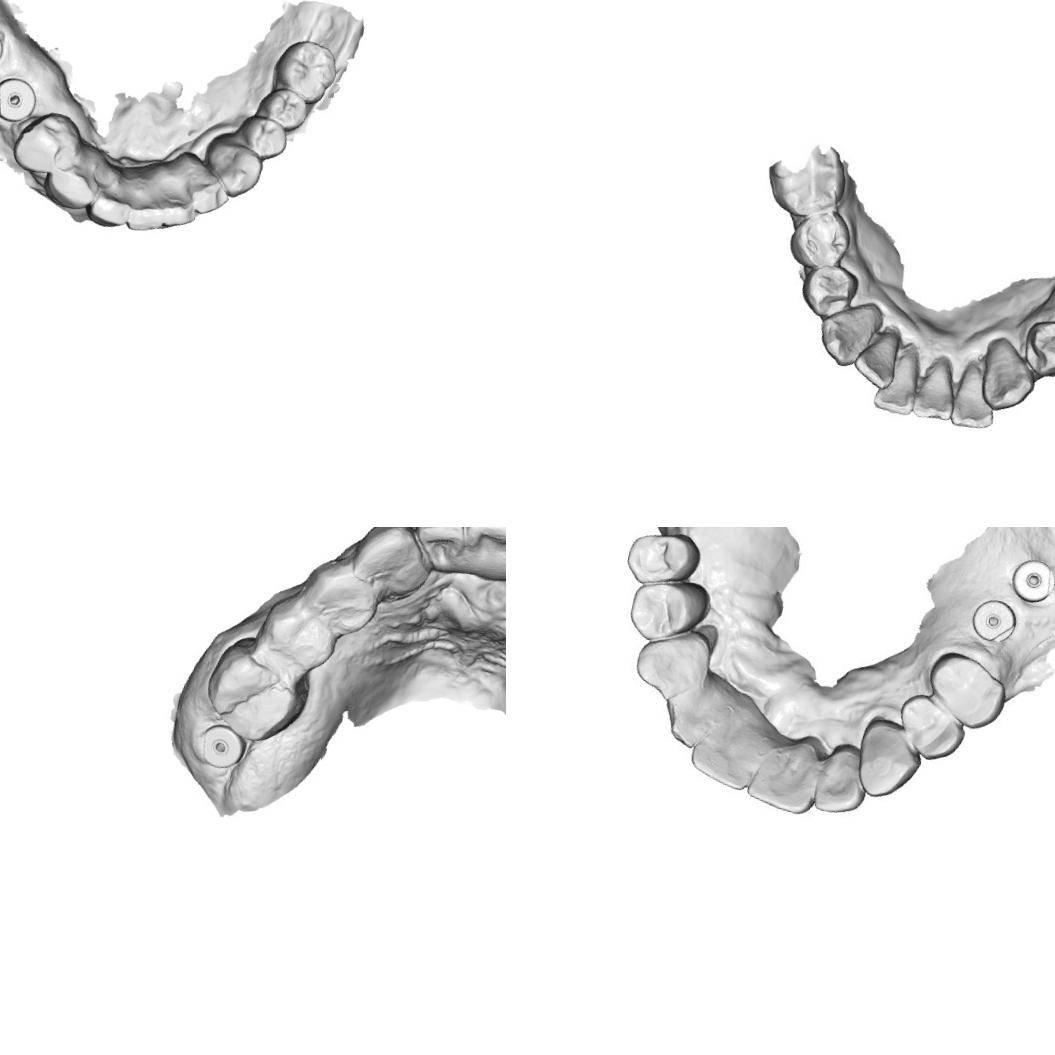canine: (626, 620, 713, 704), (849, 714, 927, 804), (346, 527, 437, 601), (974, 336, 1044, 418), (813, 294, 881, 372), (198, 134, 270, 202), (38, 156, 100, 216)
implant: (194, 720, 249, 774), (965, 596, 1016, 644), (1009, 557, 1055, 603), (0, 74, 38, 127)
incisor: (746, 731, 824, 820), (687, 709, 766, 791), (656, 681, 724, 757), (871, 342, 928, 418), (947, 359, 1004, 434), (816, 744, 873, 816), (850, 322, 900, 396), (910, 352, 958, 427), (454, 527, 506, 595), (406, 527, 472, 578), (81, 174, 137, 234), (122, 187, 172, 241), (182, 169, 232, 220), (151, 186, 200, 235)
molar: (196, 632, 316, 750), (760, 138, 849, 226), (268, 33, 344, 108)
premolar: (920, 648, 1014, 736), (252, 591, 340, 682), (294, 555, 382, 638), (892, 691, 972, 770), (6, 104, 83, 183), (622, 574, 703, 648), (617, 527, 705, 595), (784, 201, 856, 272), (796, 254, 864, 325), (253, 83, 314, 132), (1015, 314, 1055, 382), (238, 114, 291, 164)
